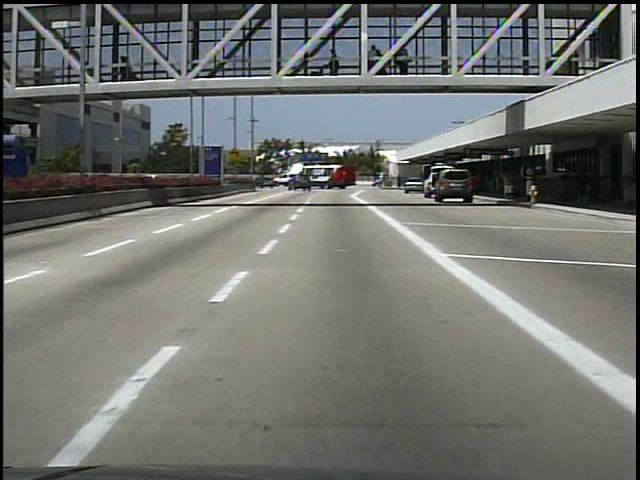person: (119, 52, 142, 85), (501, 165, 521, 202), (324, 46, 345, 78)
